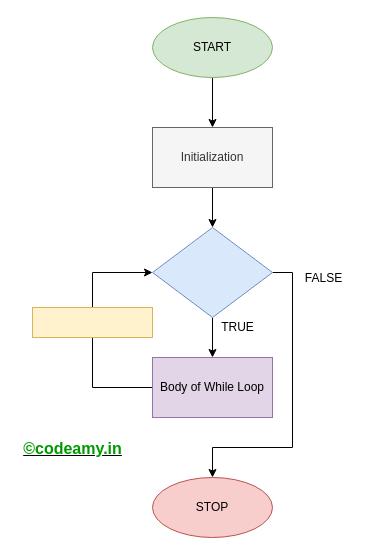
The diagram is 365 pixels wide and 555 high, and some of its shapes have lost their labels. Each missing label, with the centre of its shape:
"Increment/ decrement" belongs at (92,322).
"Test Expression" belongs at (212,272).
